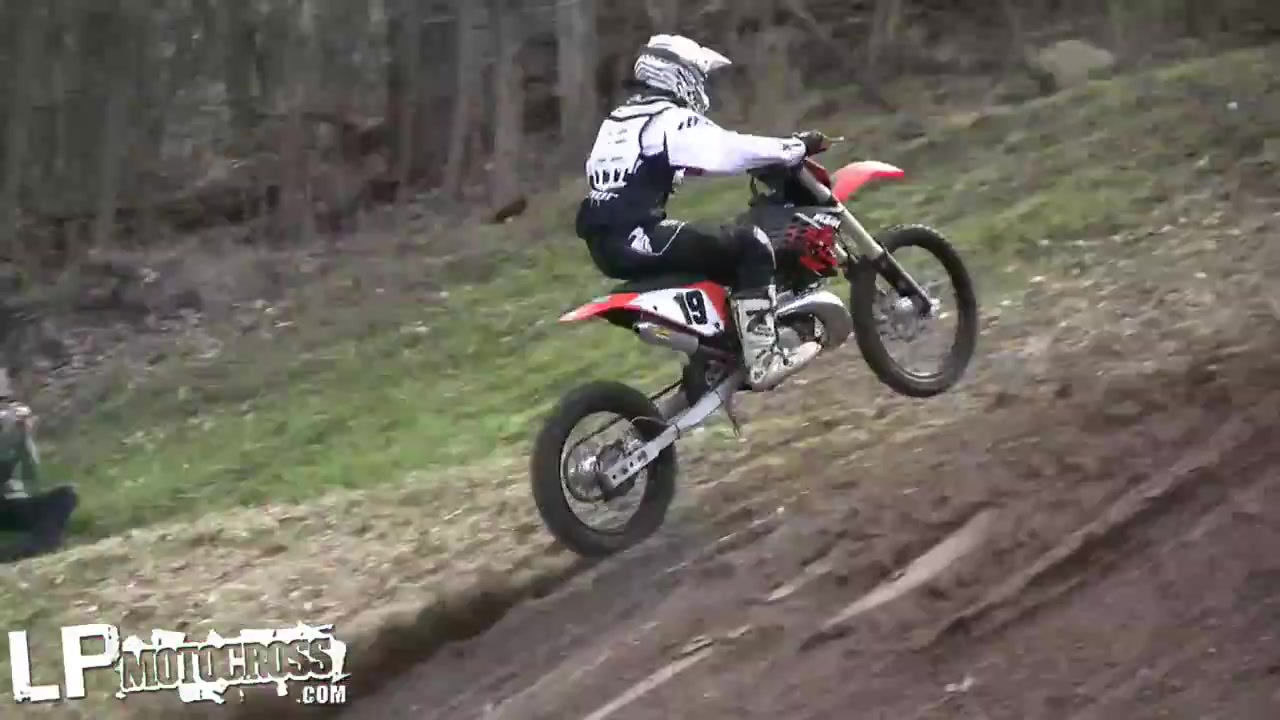motorbike: (531, 131, 979, 572)
